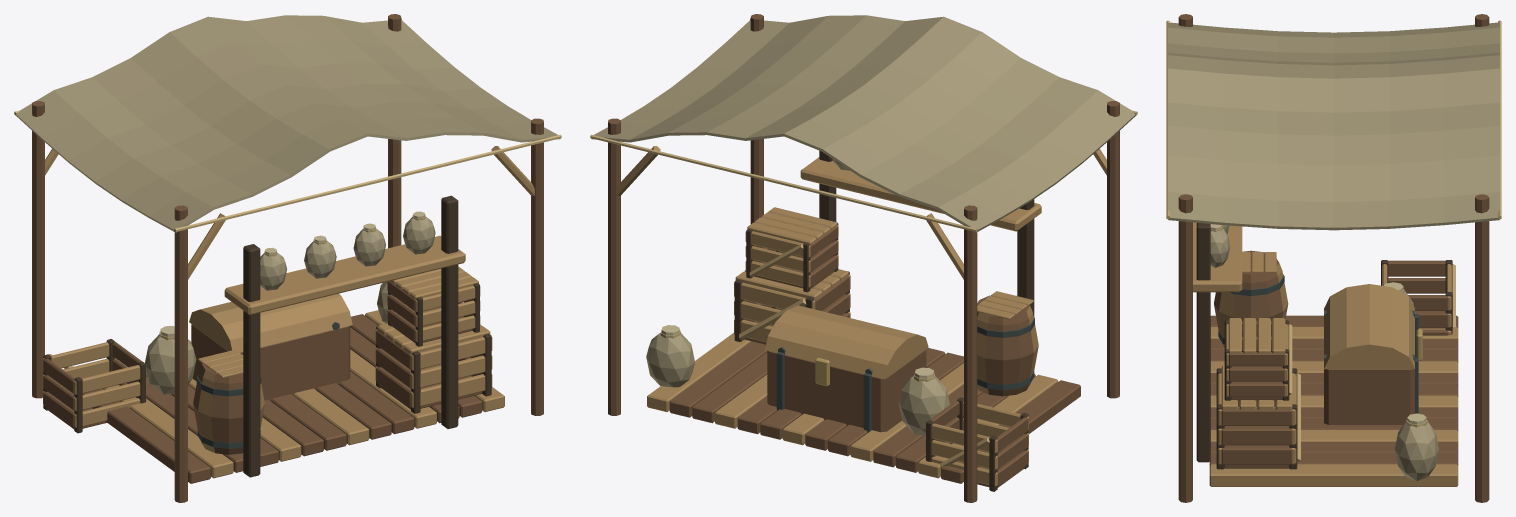
The model's file is Camp_Warehouse_L2.fbx.
3 views of the same model, side by side, from view 1: azimuth 30°, elevation 25°; view 2: azimuth 150°, elevation 25°; view 3: azimuth 270°, elevation 25° (orthographic). The views are drawn at different scales.
Visible parts, largest first — view 1: Camp_Warehouse_L2_Export; view 2: Camp_Warehouse_L2_Export; view 3: Camp_Warehouse_L2_Export.
Boxes of the visible parts, x1,y1,x2,y2 form: Camp_Warehouse_L2_Export: [14, 14, 561, 502]; Camp_Warehouse_L2_Export: [590, 14, 1137, 502]; Camp_Warehouse_L2_Export: [1166, 14, 1501, 502].
Bounding box in the file's own units: 3.9 × 3.18 × 2.83.
